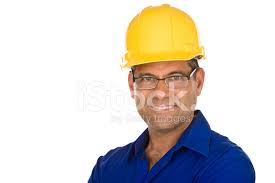Person_wearing_helmet: (112, 0, 204, 95)
